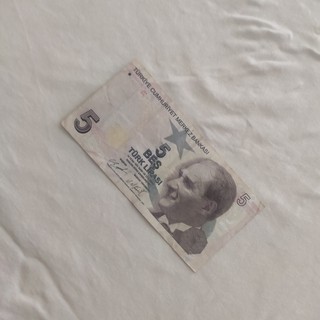5TLFront: (59, 57, 264, 272)
